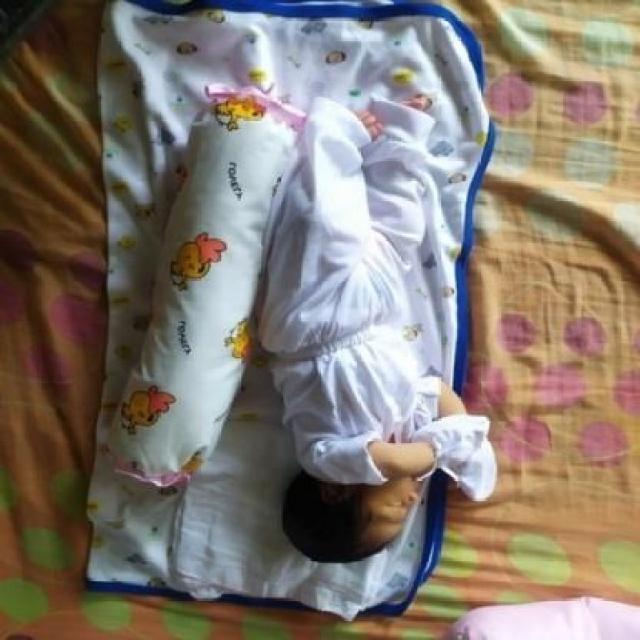child: (254, 96, 497, 570)
